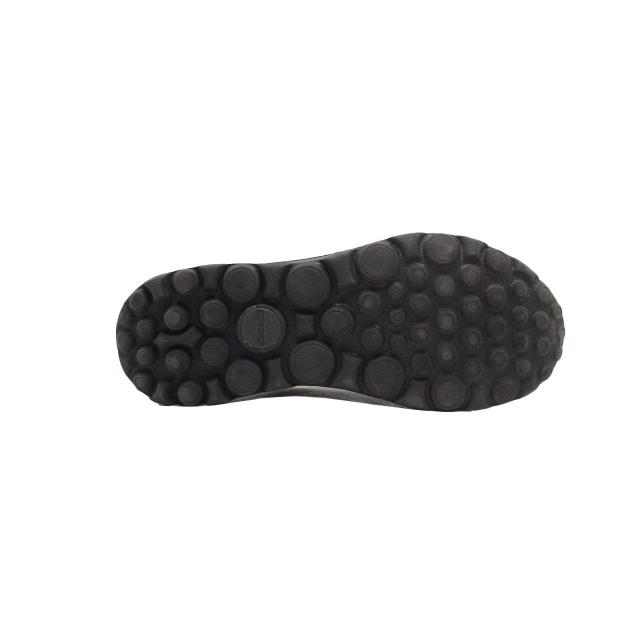outersole: (116, 233, 568, 411)
